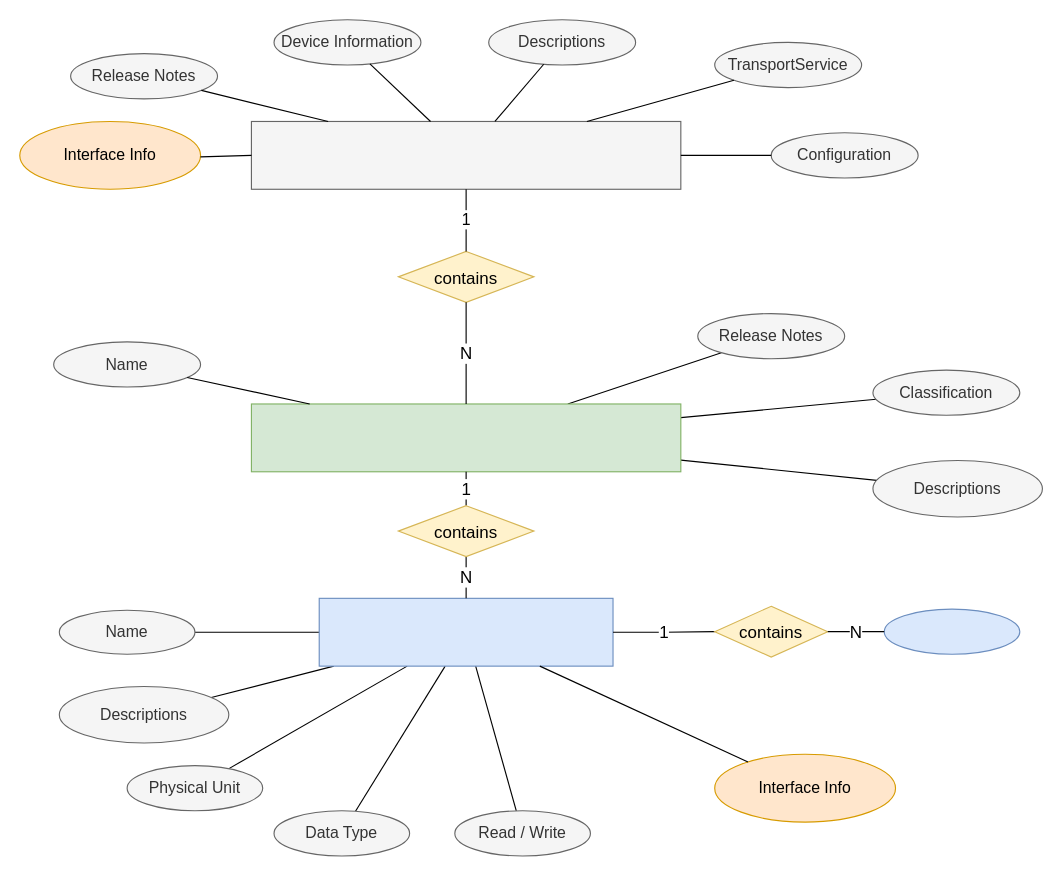
Some shapes in this 1062 by 876 pixel diagram are drawn without their labels. Each missing label, with the centre of its shape:
"Data Point" belongs at (465,631).
"Device" belongs at (465,154).
"Functional Profile" belongs at (465,437).
"Generic Attributes" belongs at (951,631).
